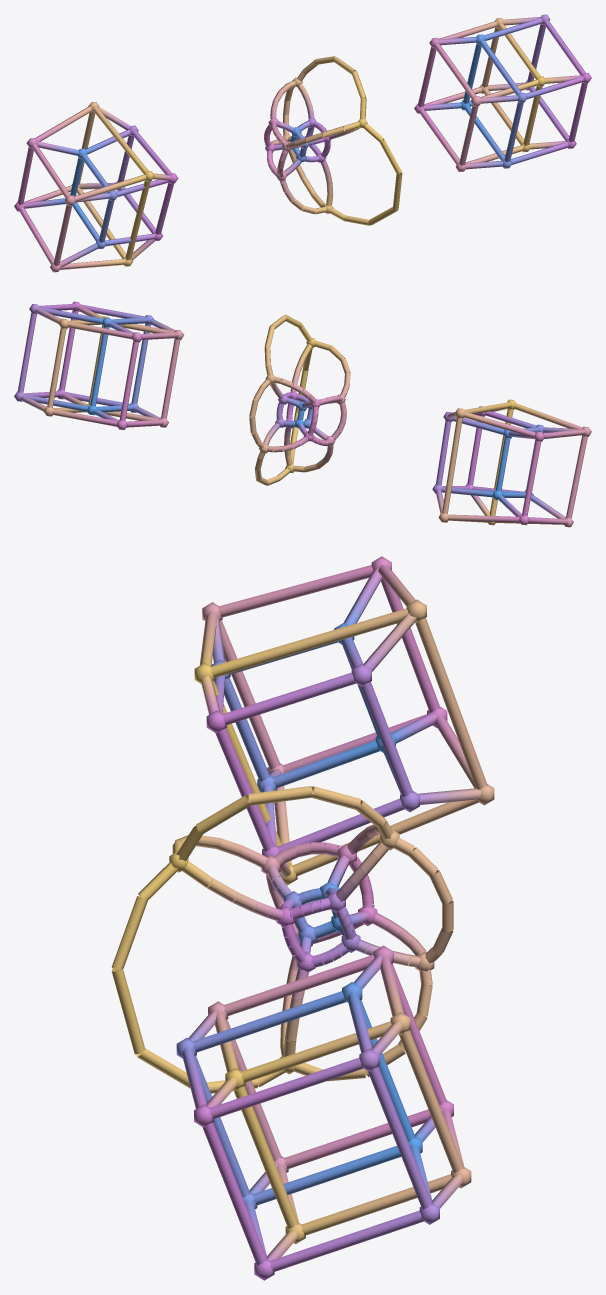
File: example.gltf
The picture shows the model from 3 angles, top to bottom: view 1: azimuth 30°, elevation 25°; view 2: azimuth 150°, elevation 25°; view 3: azimuth 270°, elevation 25°; orthographic projection. The views are drawn at different scales.
Visible parts, largest first — view 1: orthographic, perspective, stereographic; view 2: orthographic, perspective, stereographic; view 3: orthographic, perspective, stereographic.
Part boxes in pixels (bbox=[...]): orthographic: bbox=[414, 14, 591, 171]; perspective: bbox=[14, 101, 178, 272]; stereographic: bbox=[264, 56, 402, 225]; orthographic: bbox=[14, 301, 183, 429]; perspective: bbox=[432, 399, 591, 527]; stereographic: bbox=[249, 315, 350, 485]; orthographic: bbox=[176, 945, 471, 1280]; perspective: bbox=[194, 556, 494, 885]; stereographic: bbox=[111, 786, 453, 1093].
Bounding box in the file's own units: 13.42 × 3.76 × 4.27.
